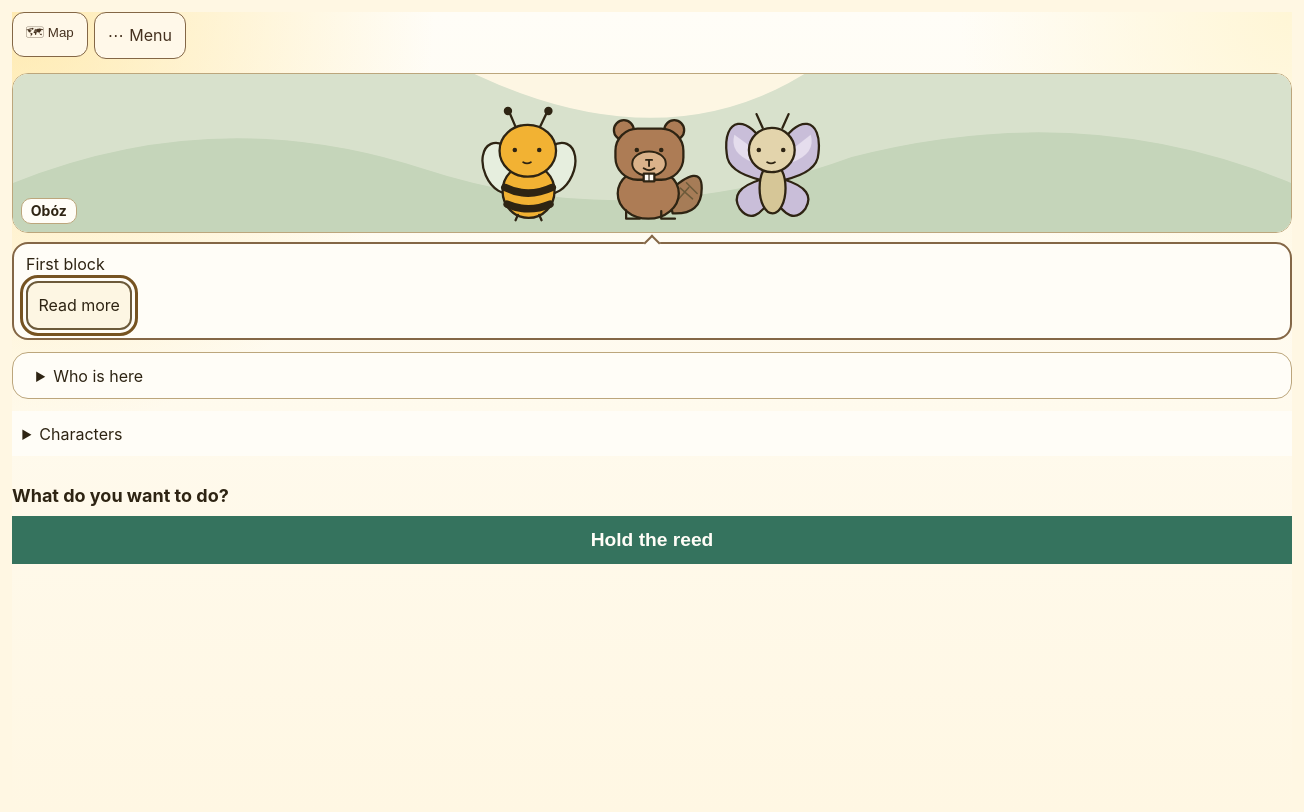
Test case: pages illustrated scene text without commands and resets only for different content
The image size is (1304, 812).
Check: the element with class "game-block" reads "First block", box left=26, top=254, right=105, bottom=274
Click the button with class "game-read-more" at (79, 305), box left=26, top=281, right=132, bottom=330
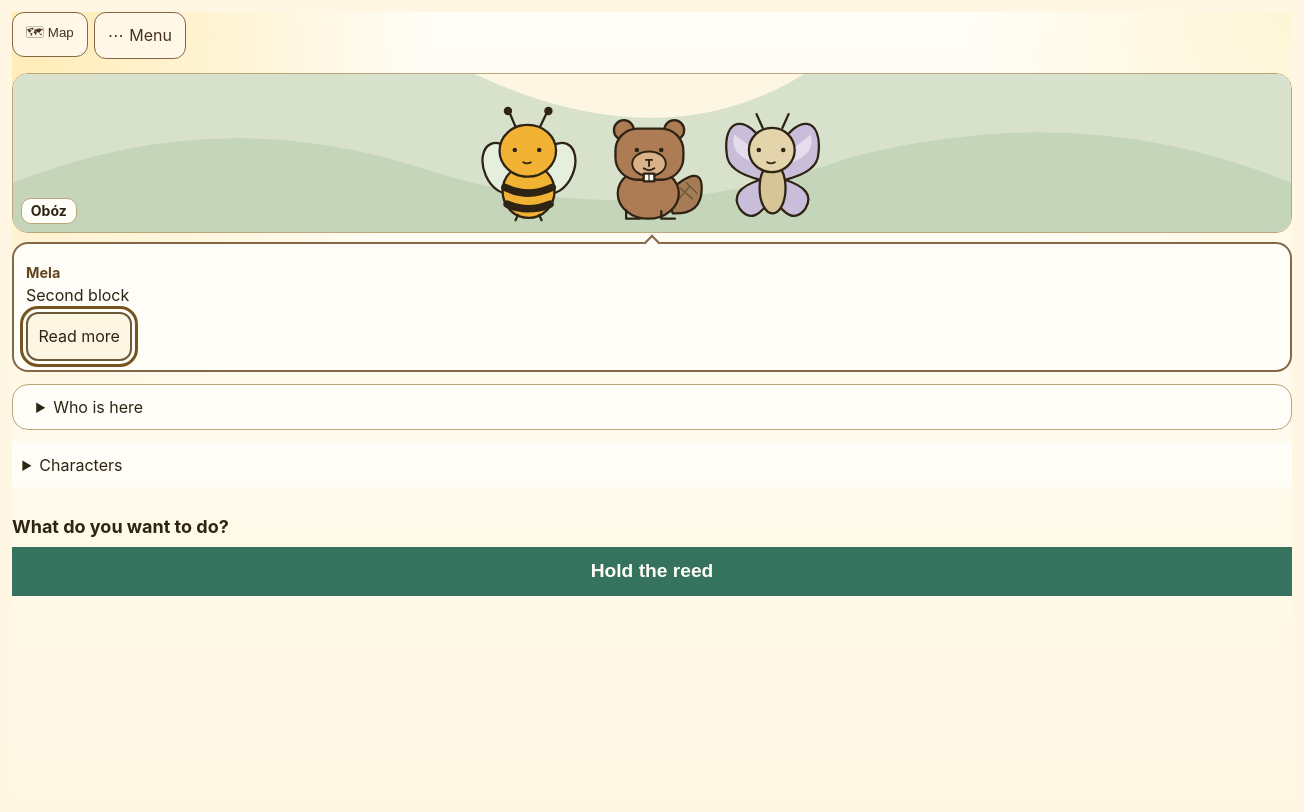
Check: the element with class "game-block" shows "Second block", box left=26, top=285, right=129, bottom=305
Click the button with class "game-read-more" at (79, 336), box left=26, top=312, right=132, bottom=361
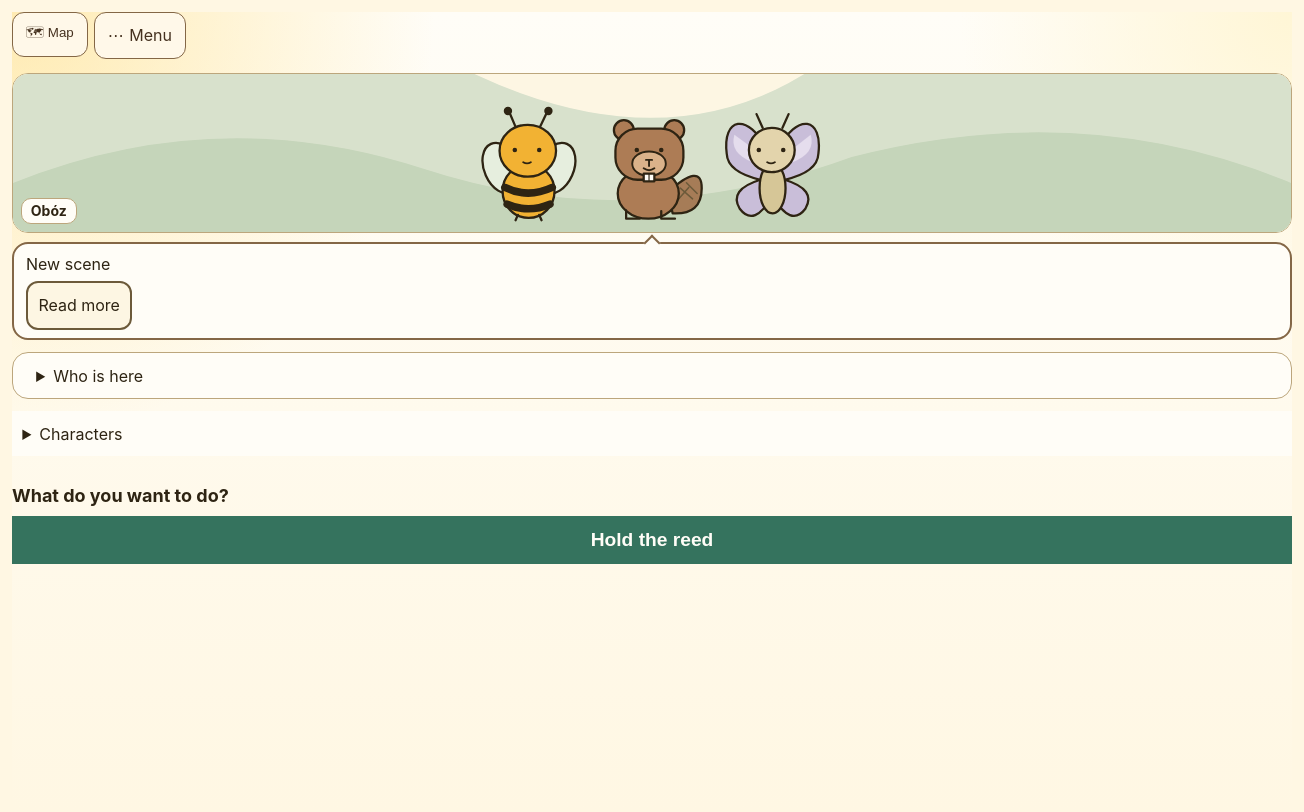
Check: the element with class "game-block" reads "New scene", box left=26, top=254, right=110, bottom=274
